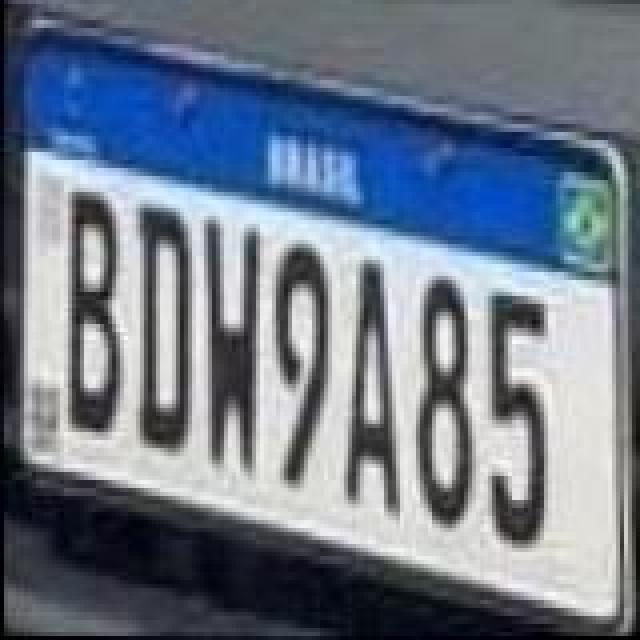5: (482, 288, 558, 544)
8: (410, 274, 486, 526)
9: (264, 242, 332, 490)
A: (336, 250, 400, 514)
B: (66, 186, 130, 438)
D: (132, 208, 192, 452)
W: (200, 212, 268, 476)
